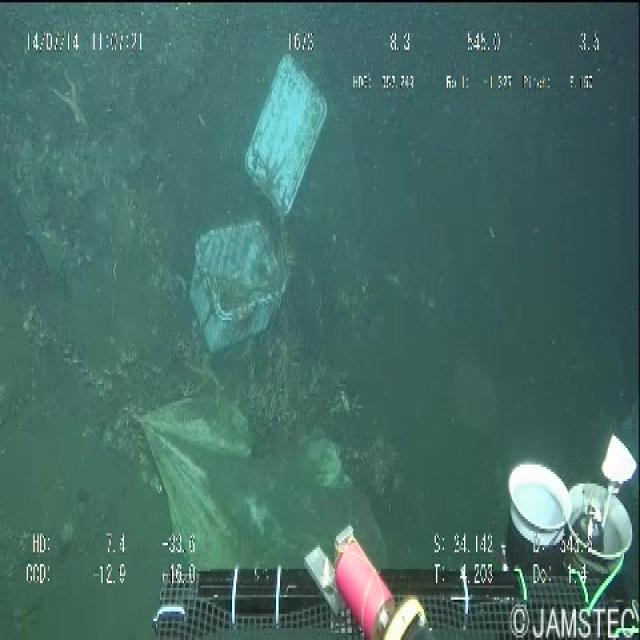plastic: (178, 45, 346, 377)
